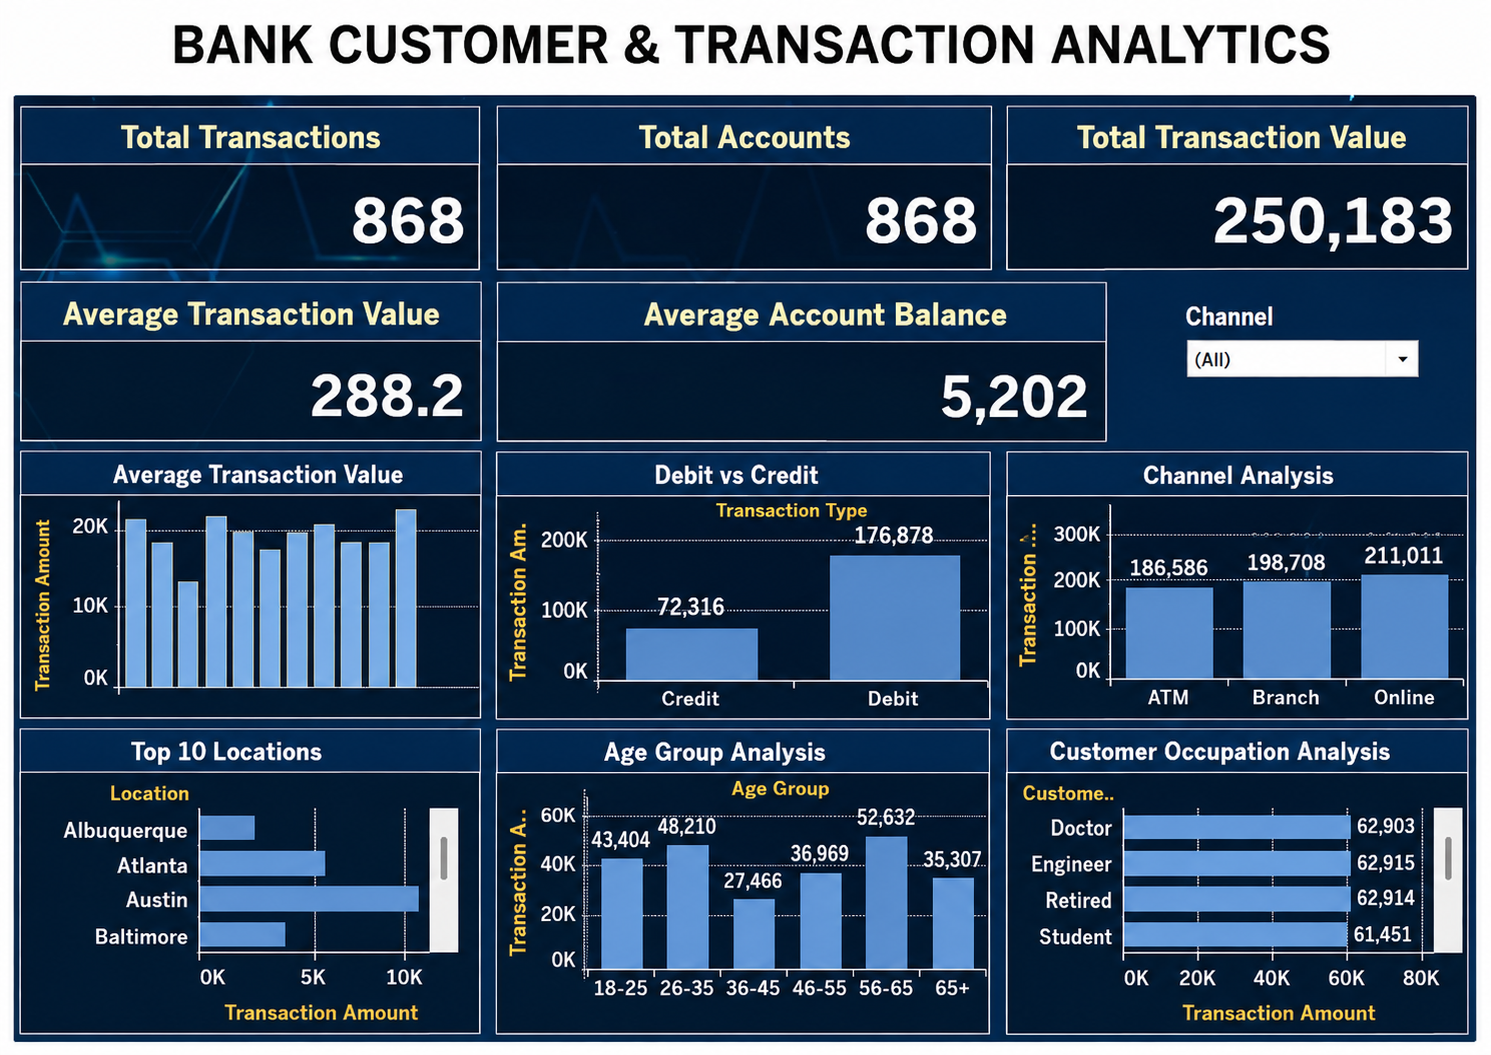

The page's visual inventory and layout, read from the dashboard file:
{"tool":"tableau","page":{"name":"Bank Customer & Transaction Analytics","canvas":[1200,800],"ordinal":0},"visuals":[{"type":"text","box":[8,8,1184,60]},{"type":"image","param":"C:/Users/admin/Downloads/image.png","box":[8,68,1184,724]},{"type":"worksheet","title":"Total Transaction Value","mark":"Automatic","box":[792,99,336,100]},{"type":"worksheet","title":"Total Accounts","mark":"Automatic","box":[452,102,305,104]},{"type":"worksheet","title":"Total Transactions","mark":"Automatic","box":[88,103,285,105]},{"type":"worksheet","title":"Average Account Balance","mark":"Automatic","box":[513,231,350,99]},{"type":"filter","title":"Channel Analysis","param":"[federated.07qngjf0wktqoc12srw2p0ycd94i].[none:Channel:nk]","box":[933,241,160,93]},{"type":"worksheet","title":"Average Transaction Value","mark":"Automatic","box":[74,250,354,90]},{"type":"worksheet","title":"Channel Analysis","mark":"Bar","rows":["TransactionAmount"],"cols":["Channel"],"box":[816,342,312,197]},{"type":"worksheet","title":"Debit vs Credit","mark":"Bar","rows":["TransactionAmount"],"cols":["TransactionType"],"box":[383,343,410,218]},{"type":"worksheet","title":"Monthly Trend.","mark":"Automatic","rows":["TransactionAmount"],"cols":["YearMonth"],"box":[70,358,301,202]},{"type":"worksheet","title":"Top 10 Locations","mark":"Automatic","rows":["Location"],"cols":["TransactionAmount"],"box":[69,570,307,212]},{"type":"worksheet","title":"Age Group Analysis","mark":"Automatic","rows":["TransactionAmount"],"cols":["AgeGroup"],"box":[404,572,388,210]},{"type":"worksheet","title":"Customer Occupation Analysis","mark":"Automatic","rows":["CustomerOccupation"],"cols":["TransactionAmount"],"box":[811,585,325,201]}]}

Visuals, with their boxes in screenshot pixels (x1, y1, x2, y2):
text: (0, 14, 1473, 93)
image: (0, 93, 1473, 1047)
"Total Transaction Value" worksheet: (946, 134, 1389, 266)
"Total Accounts" worksheet: (498, 138, 900, 275)
"Total Transactions" worksheet: (19, 140, 394, 278)
"Average Account Balance" worksheet: (579, 308, 1040, 439)
"Channel Analysis" filter: (1132, 321, 1342, 444)
"Average Transaction Value" worksheet: (0, 333, 467, 452)
"Channel Analysis" worksheet (Bar marks): (978, 454, 1389, 714)
"Debit vs Credit" worksheet (Bar marks): (407, 456, 947, 743)
"Monthly Trend." worksheet: (0, 475, 392, 741)
"Top 10 Locations" worksheet: (0, 755, 398, 1034)
"Age Group Analysis" worksheet: (435, 757, 946, 1034)
"Customer Occupation Analysis" worksheet: (971, 774, 1399, 1039)
